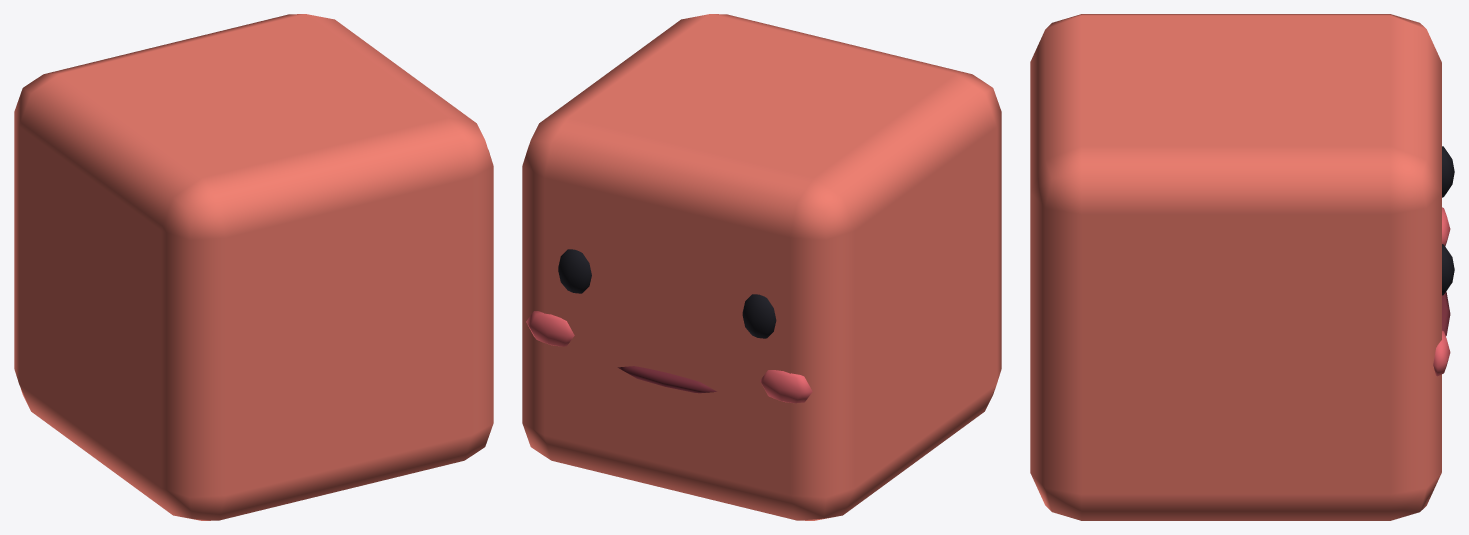
Rendered from worm_head_ringed.glb.
The picture shows the model from 3 angles, left to right: view 1: azimuth 30°, elevation 25°; view 2: azimuth 150°, elevation 25°; view 3: azimuth 270°, elevation 25°; orthographic projection. The views are drawn at different scales.
Parts seen in each view (by area): view 1: worm_head_ringed; view 2: worm_head_ringed; view 3: worm_head_ringed.
Boxes of the visible parts, <box> form: worm_head_ringed: <box>14,14,493,520</box>; worm_head_ringed: <box>522,14,1001,520</box>; worm_head_ringed: <box>1030,14,1454,520</box>.
Bounding box in the file's own units: 0.96 × 0.96 × 0.99.
